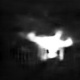plane: (18, 27, 79, 62)
